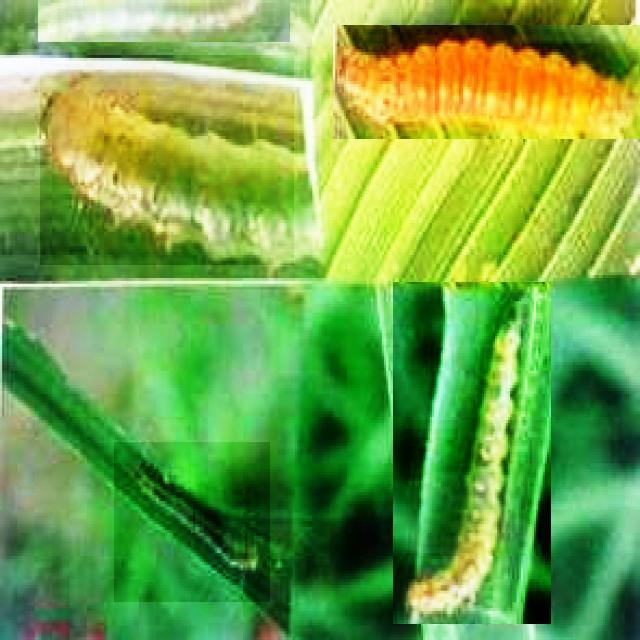leaf-folder: (393, 282, 551, 624), (40, 55, 294, 265), (333, 25, 640, 139), (114, 442, 270, 602), (38, 0, 290, 42)
